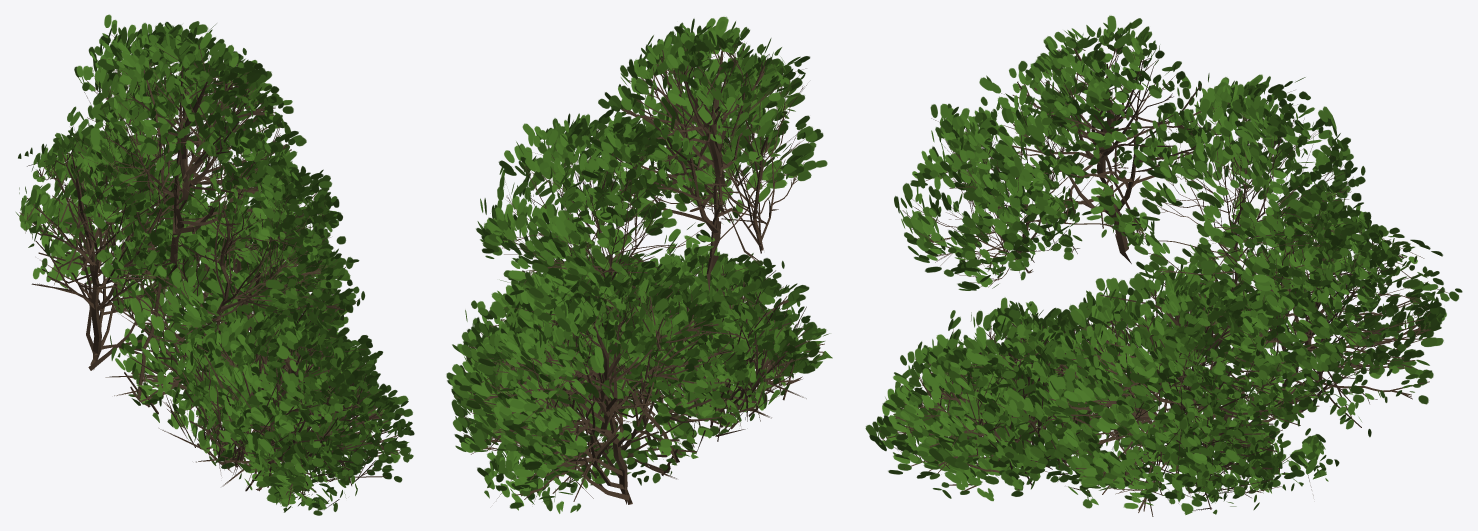
3 views of the same model, side by side, from view 1: azimuth 30°, elevation 25°; view 2: azimuth 150°, elevation 25°; view 3: azimuth 270°, elevation 25° (orthographic). The views are drawn at different scales.
Visible parts, largest first — view 1: oak 01.001_trunk_Mat.001_0.356; view 2: oak 01.001_trunk_Mat.001_0.356; view 3: oak 01.001_trunk_Mat.001_0.356.
Boxes of the visible parts, bbox=[...] form: oak 01.001_trunk_Mat.001_0.356: bbox=[16, 14, 414, 515]; oak 01.001_trunk_Mat.001_0.356: bbox=[446, 16, 832, 513]; oak 01.001_trunk_Mat.001_0.356: bbox=[865, 15, 1462, 516].
Size of the model in its own units: 1.89 by 3.24 by 4.06.
Materials: 2 (1 with a texture image).
